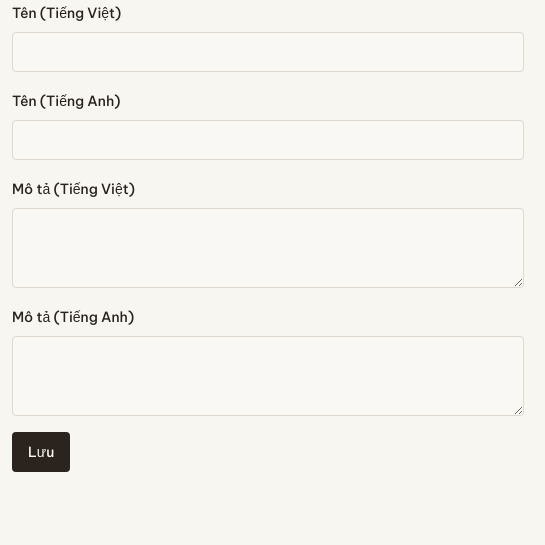
Test case: CategoryForm › shows a validation error when the Vietnamese name is empty
Click the button "Lưu" at [41, 452], box [12,432,70,472]
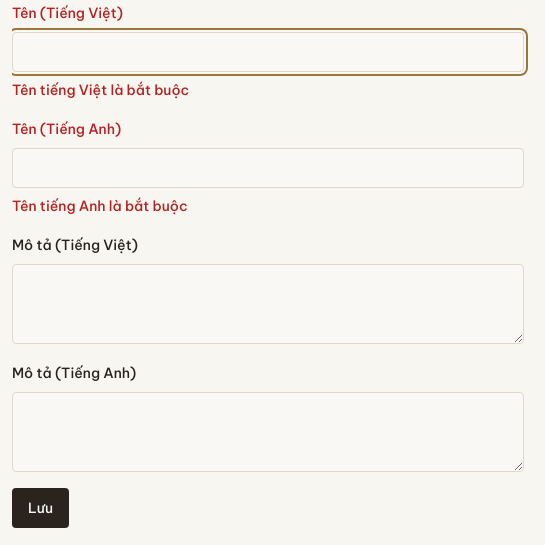
Check: the text "Tên tiếng Việt là bắt buộc" is shown, box [12,81,189,99]
